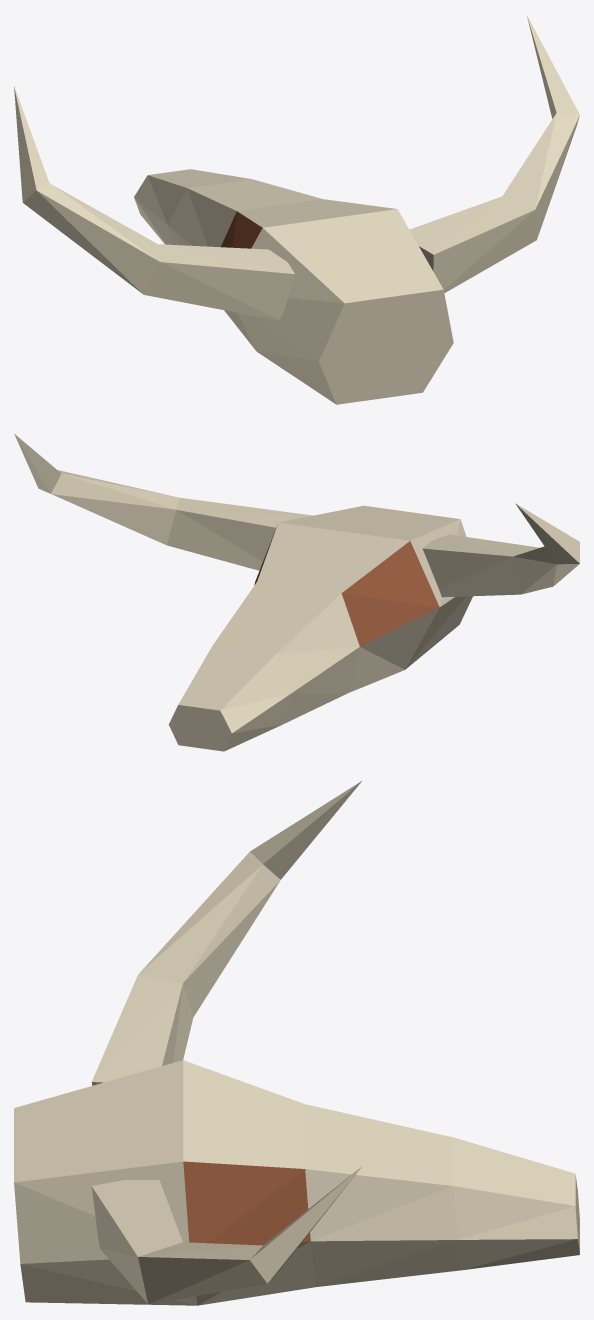
Rendered from cattle_skull.glb.
3 renders of one model, top to bottom at view 1: azimuth 30°, elevation 25°; view 2: azimuth 150°, elevation 25°; view 3: azimuth 270°, elevation 25°, orthographic. The views are drawn at different scales.
Parts seen in each view (by area): view 1: cattle_skull; view 2: cattle_skull; view 3: cattle_skull.
Part boxes in pixels (x1,y1,x2,y2): cattle_skull: (14,15,579,404); cattle_skull: (14,434,579,751); cattle_skull: (14,781,579,1305).
Size of the model in its own units: 0.6131 by 0.2931 by 0.4278.
1 material, 1 textured.
